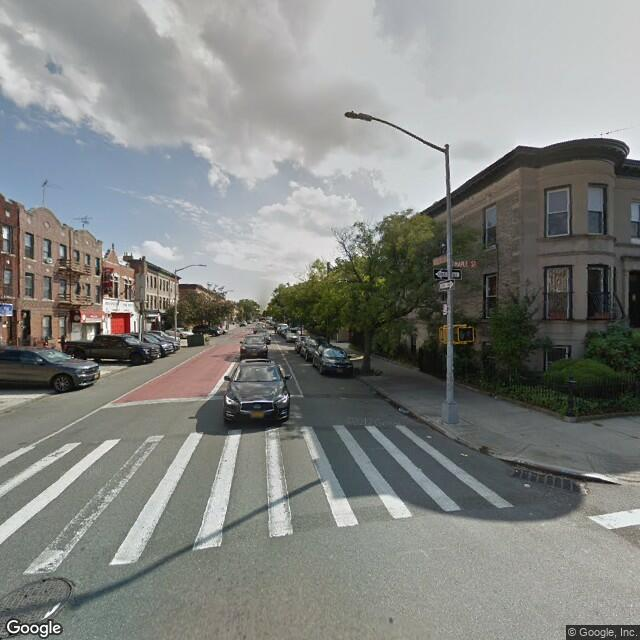litter: (394, 403, 415, 419), (521, 480, 532, 487), (461, 451, 468, 459), (525, 510, 533, 516), (424, 431, 433, 436)
